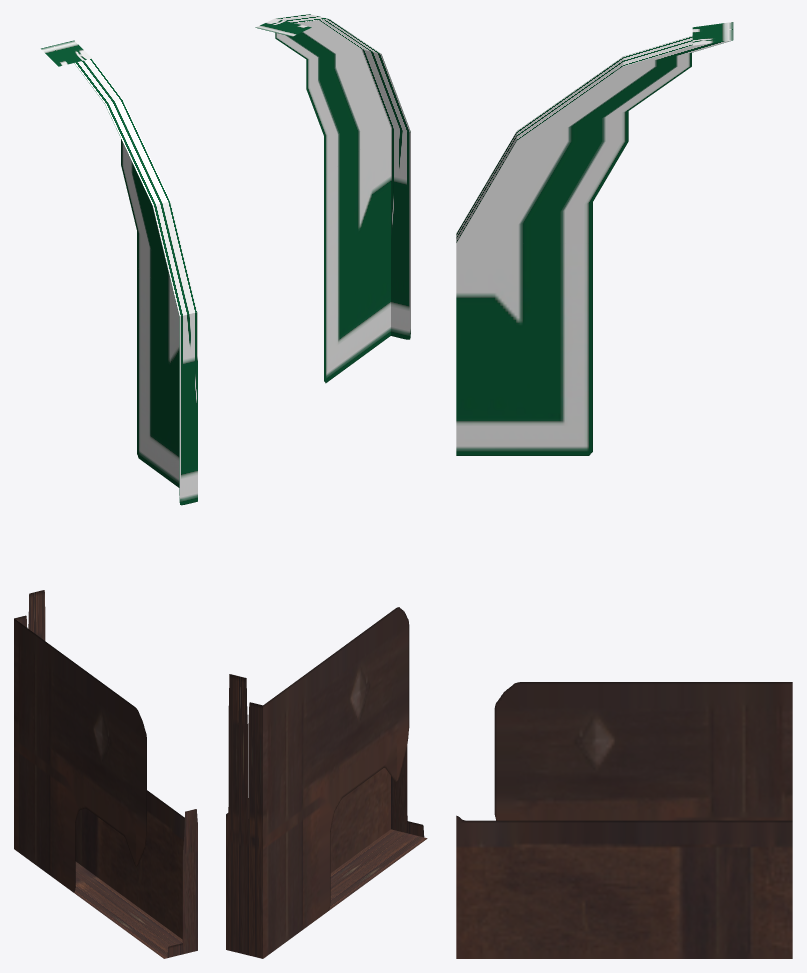
The model's file is Porta.fbx.
3 views of the same model, side by side, from view 1: azimuth 30°, elevation 25°; view 2: azimuth 150°, elevation 25°; view 3: azimuth 270°, elevation 25° (orthographic). The views are drawn at different scales.
Parts seen in each view (by area): view 1: Porta; view 2: Porta; view 3: Porta.
Boxes of the visible parts, x1,y1,x2,y2 form: Porta: [14, 40, 197, 958]; Porta: [226, 14, 427, 958]; Porta: [456, 22, 792, 958].
Size of the model in its own units: 45.31 by 1061 by 349.
